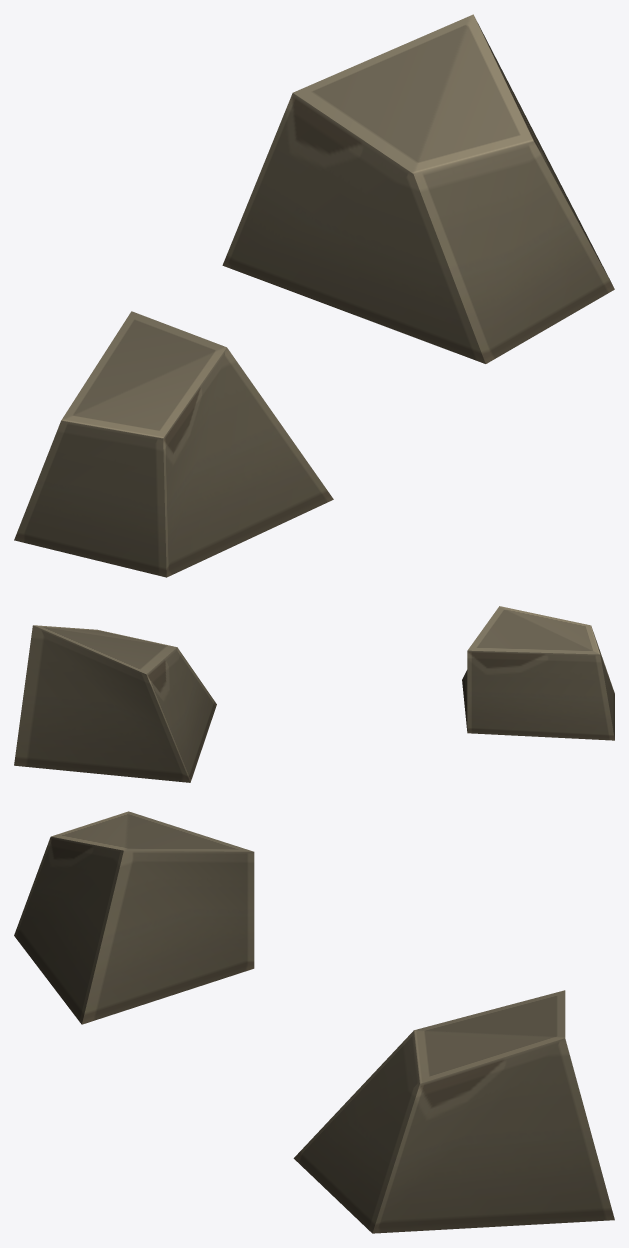
File: BG_056_stone.FBX
3 renders of one model, top to bottom at view 1: azimuth 30°, elevation 25°; view 2: azimuth 150°, elevation 25°; view 3: azimuth 270°, elevation 25°, orthographic. The views are drawn at different scales.
Parts seen in each view (by area): view 1: BG_056_stone; view 2: BG_056_stone; view 3: BG_056_stone.
Part boxes in pixels (x1,y1,x2,y2): BG_056_stone: [14, 14, 614, 577]; BG_056_stone: [14, 606, 614, 782]; BG_056_stone: [14, 811, 614, 1233].
Bounding box in the file's own units: 143 × 38.27 × 115.
